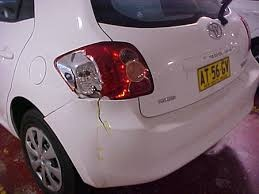Broken-glass: (54, 42, 145, 100)
Dent: (92, 100, 111, 156)
